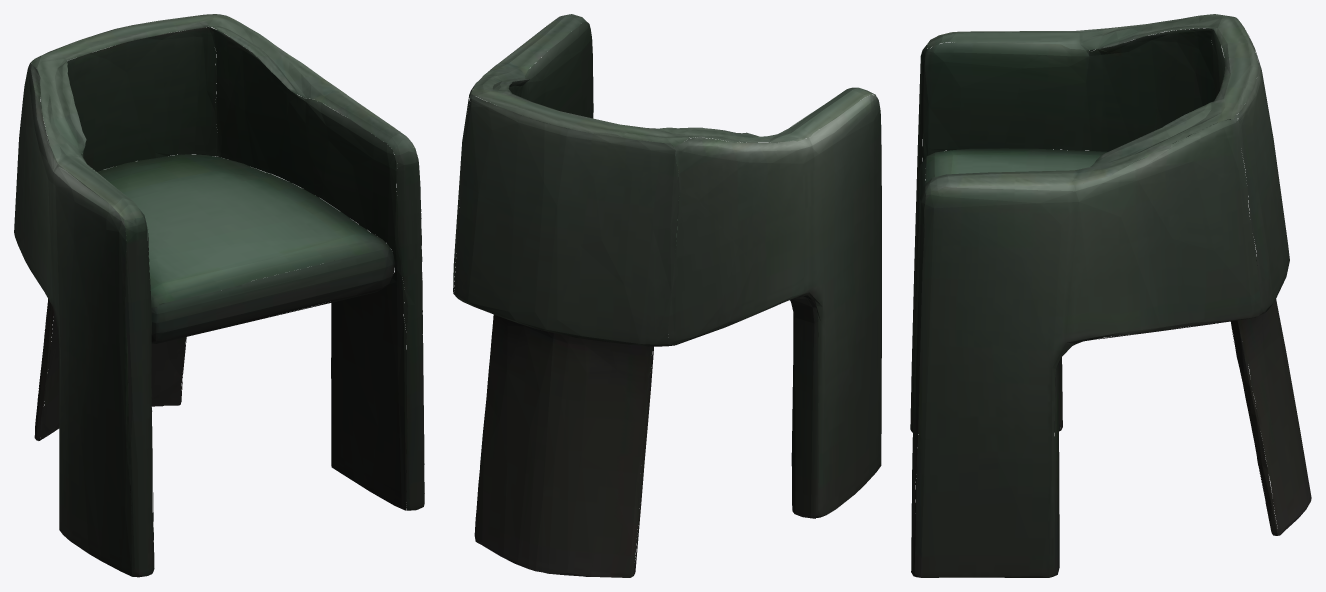
File: d-chaise2.glb
The picture shows the model from 3 angles, left to right: view 1: azimuth 30°, elevation 25°; view 2: azimuth 150°, elevation 25°; view 3: azimuth 270°, elevation 25°; orthographic projection. The views are drawn at different scales.
Visible parts, largest first — view 1: geometry_0; view 2: geometry_0; view 3: geometry_0.
Boxes of the visible parts, x1,y1,x2,y2 form: geometry_0: (14,14,424,577); geometry_0: (453,14,881,577); geometry_0: (910,14,1311,577).
Size of the model in its own units: 0.7953 by 1 by 0.8343.
1 material, 1 textured.
